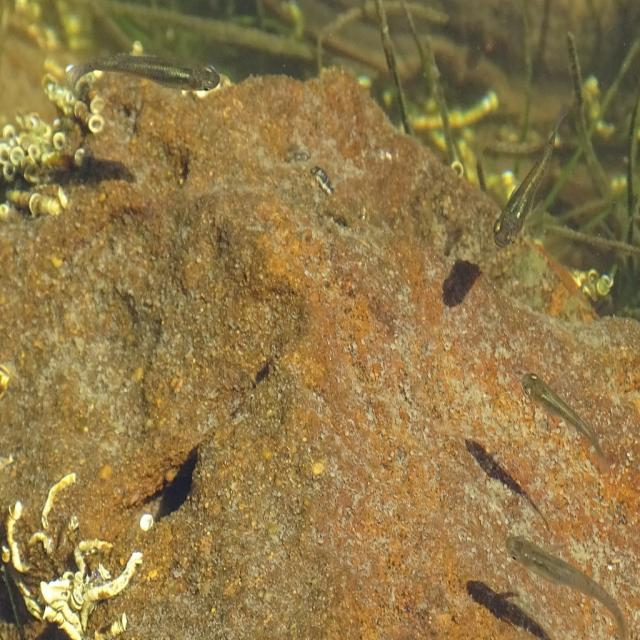Sivrisinek Baligi: (509, 520, 638, 639), (477, 112, 568, 254), (40, 47, 224, 103), (517, 367, 602, 451)
